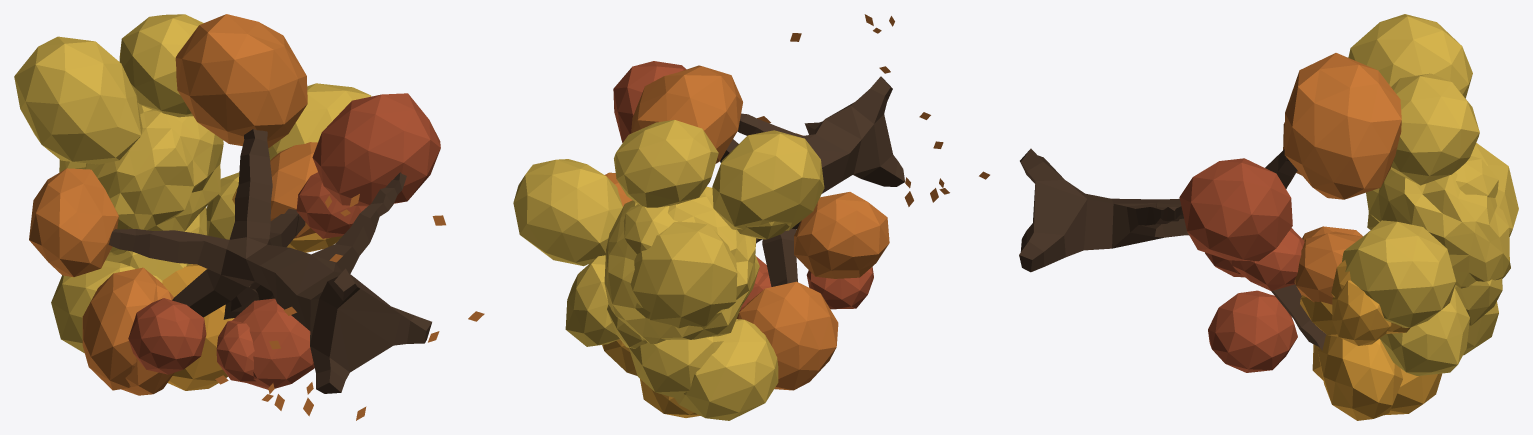
Rendered from TreeOakAutumnB1.fbx.
The picture shows the model from 3 angles, left to right: view 1: azimuth 30°, elevation 25°; view 2: azimuth 150°, elevation 25°; view 3: azimuth 270°, elevation 25°; orthographic projection. The views are drawn at different scales.
Parts seen in each view (by area): view 1: M_Tree_Leaf_Gold, M_Tree_Leaf_Orange, M_Tree_Bark.001, M_Tree_Leaf_Rust, M_Tree_Leaf_Amber; view 2: M_Tree_Leaf_Gold, M_Tree_Leaf_Orange, M_Tree_Bark.001, M_Tree_Leaf_Rust, M_Tree_Leaf_Amber; view 3: M_Tree_Leaf_Gold, M_Tree_Leaf_Rust, M_Tree_Leaf_Orange, M_Tree_Bark.001, M_Tree_Leaf_Amber.
Boxes of the visible parts, x1,y1,x2,y2 form: M_Tree_Leaf_Gold: [14, 14, 371, 353]; M_Tree_Leaf_Orange: [29, 14, 484, 420]; M_Tree_Bark.001: [108, 129, 431, 393]; M_Tree_Leaf_Rust: [128, 93, 440, 389]; M_Tree_Leaf_Amber: [162, 187, 342, 390]; M_Tree_Leaf_Gold: [513, 120, 824, 420]; M_Tree_Leaf_Orange: [605, 14, 989, 390]; M_Tree_Bark.001: [720, 76, 904, 286]; M_Tree_Leaf_Rust: [613, 61, 873, 311]; M_Tree_Leaf_Amber: [602, 312, 739, 417]; M_Tree_Leaf_Gold: [1342, 14, 1518, 375]; M_Tree_Leaf_Rust: [1179, 158, 1304, 372]; M_Tree_Leaf_Orange: [1283, 53, 1401, 304]; M_Tree_Bark.001: [1019, 148, 1326, 350]; M_Tree_Leaf_Amber: [1300, 260, 1442, 420].
Bounding box in the file's own units: 2454 × 2314 × 2940.
